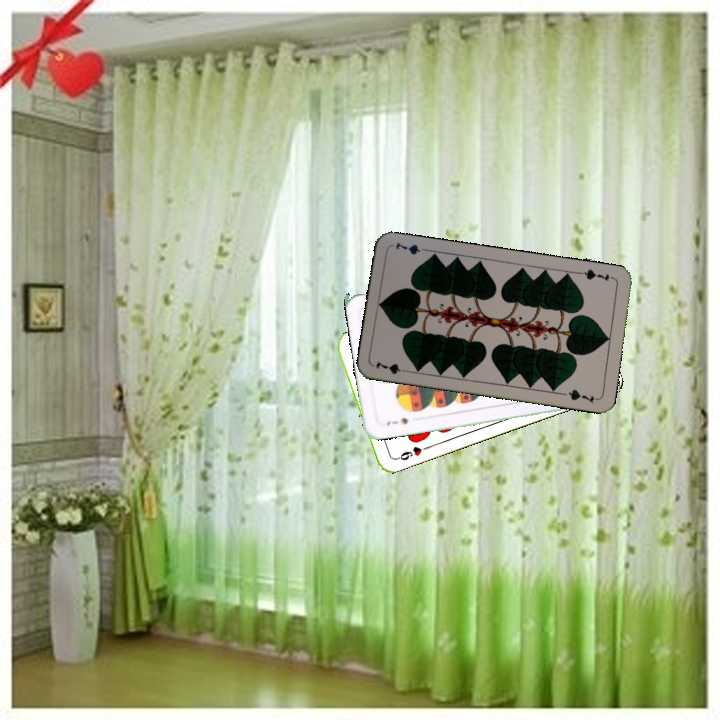G7: (371, 357, 412, 377), (576, 265, 616, 284)
H9: (390, 442, 430, 463)
S7: (383, 413, 411, 428)
